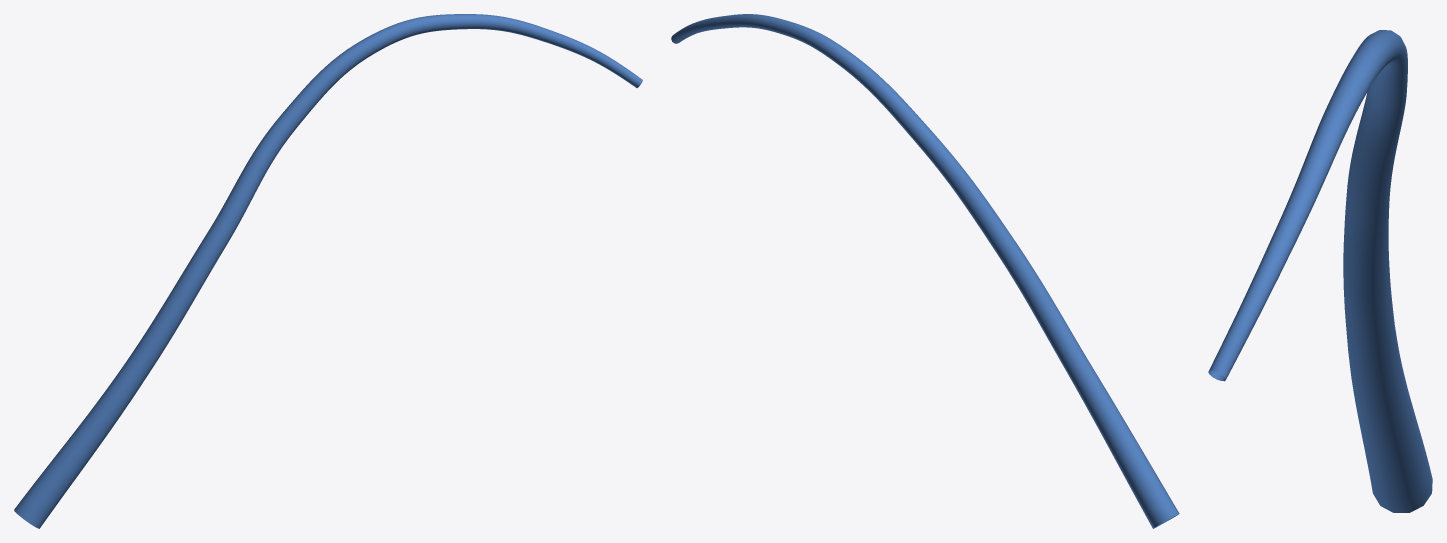
3 renders of one model, left to right at view 1: azimuth 30°, elevation 25°; view 2: azimuth 150°, elevation 25°; view 3: azimuth 270°, elevation 25°, orthographic. The views are drawn at different scales.
Visible parts, largest first — view 1: 左侧旋肱后静脉; view 2: 左侧旋肱后静脉; view 3: 左侧旋肱后静脉.
Part boxes in pixels (box(x1,y1,x2,y2)): 左侧旋肱后静脉: box(14, 14, 642, 528); 左侧旋肱后静脉: box(671, 14, 1179, 528); 左侧旋肱后静脉: box(1208, 30, 1432, 512).
Bounding box in the file's own units: 0.0761 × 0.0534 × 0.0134.
